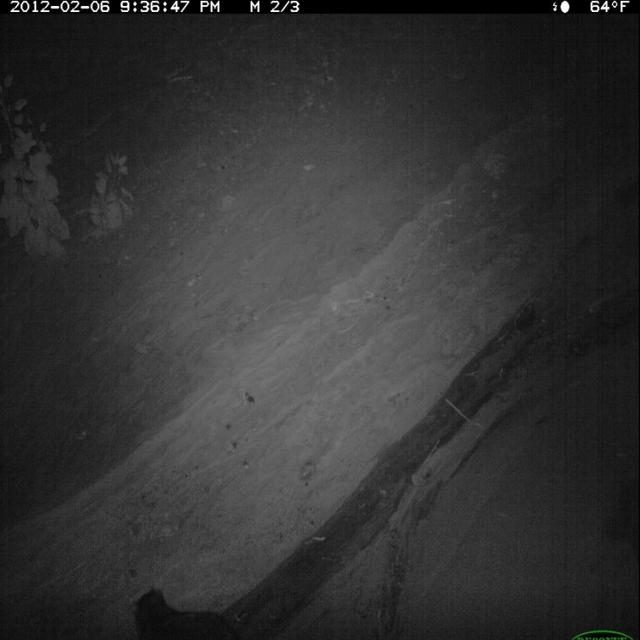raccoon: (127, 578, 251, 640)
